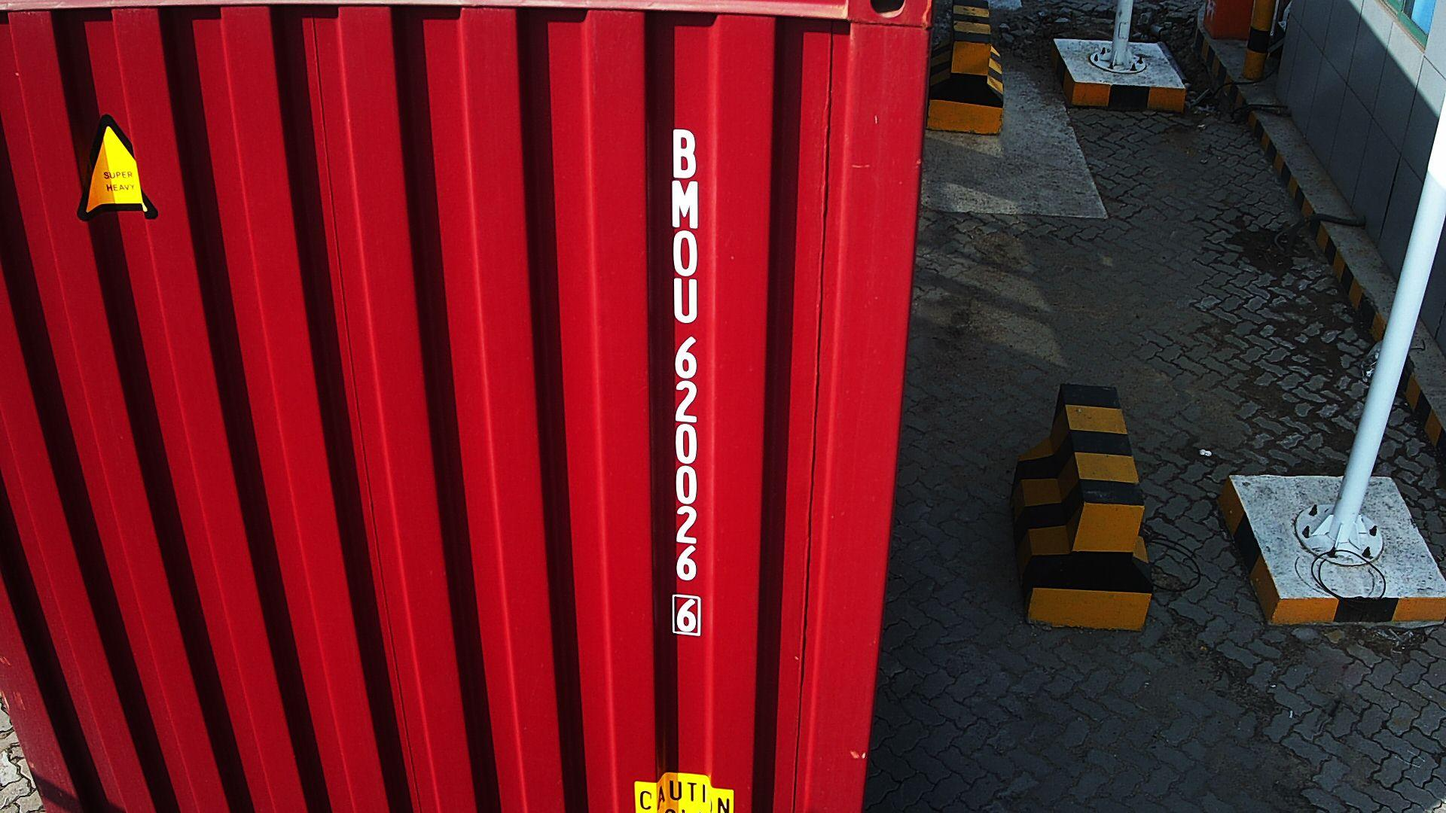container-numbers: (660, 117, 706, 638)
